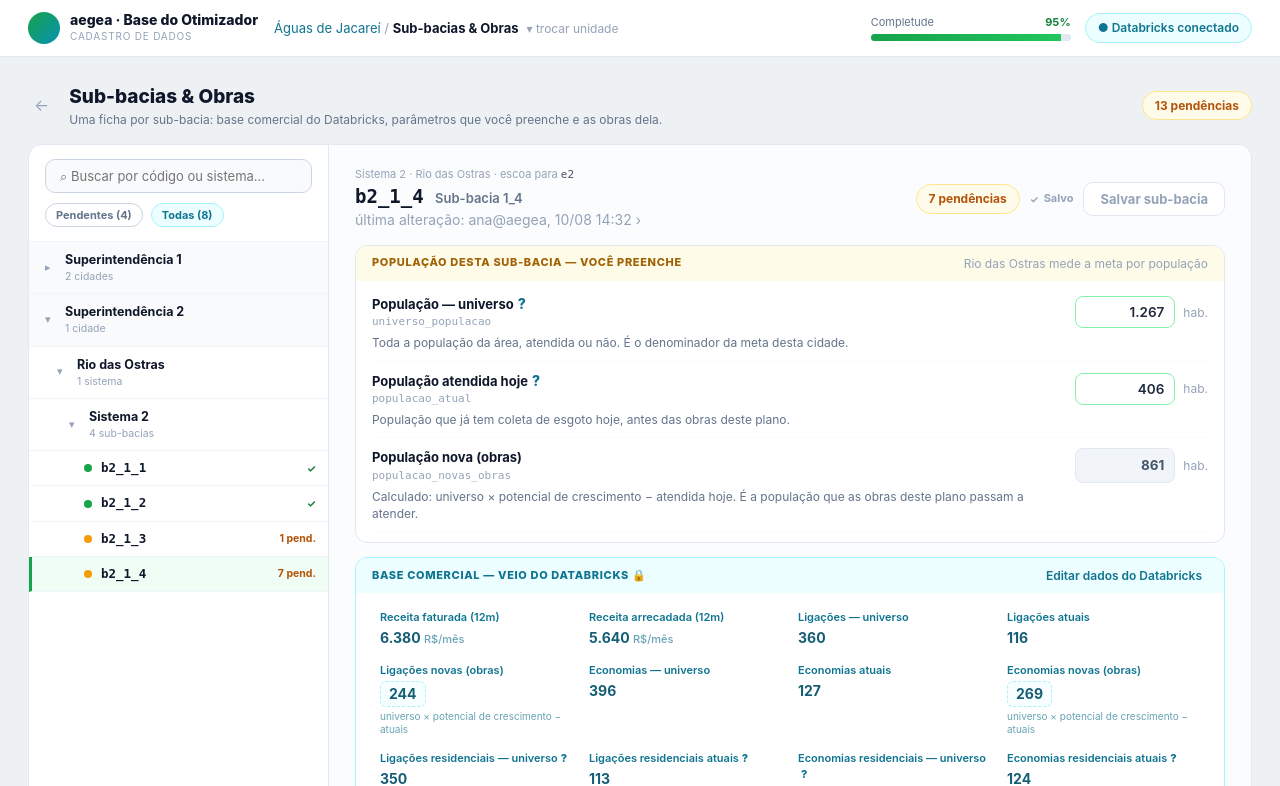
ficha que nunca foi gravada pela tela não inventa histórico › não mostra a linha, e não diz "nunca alterada"
Expected: the button "Salvar sub-bacia" is shown, [1084,182,1225,216]
Expected: the button "última alteração: ana@aegea, 10/08 14:32 ›" is shown, [355,210,641,231]
Click the button "b2_1_2 ✓": (124, 503) [29,486,328,522]
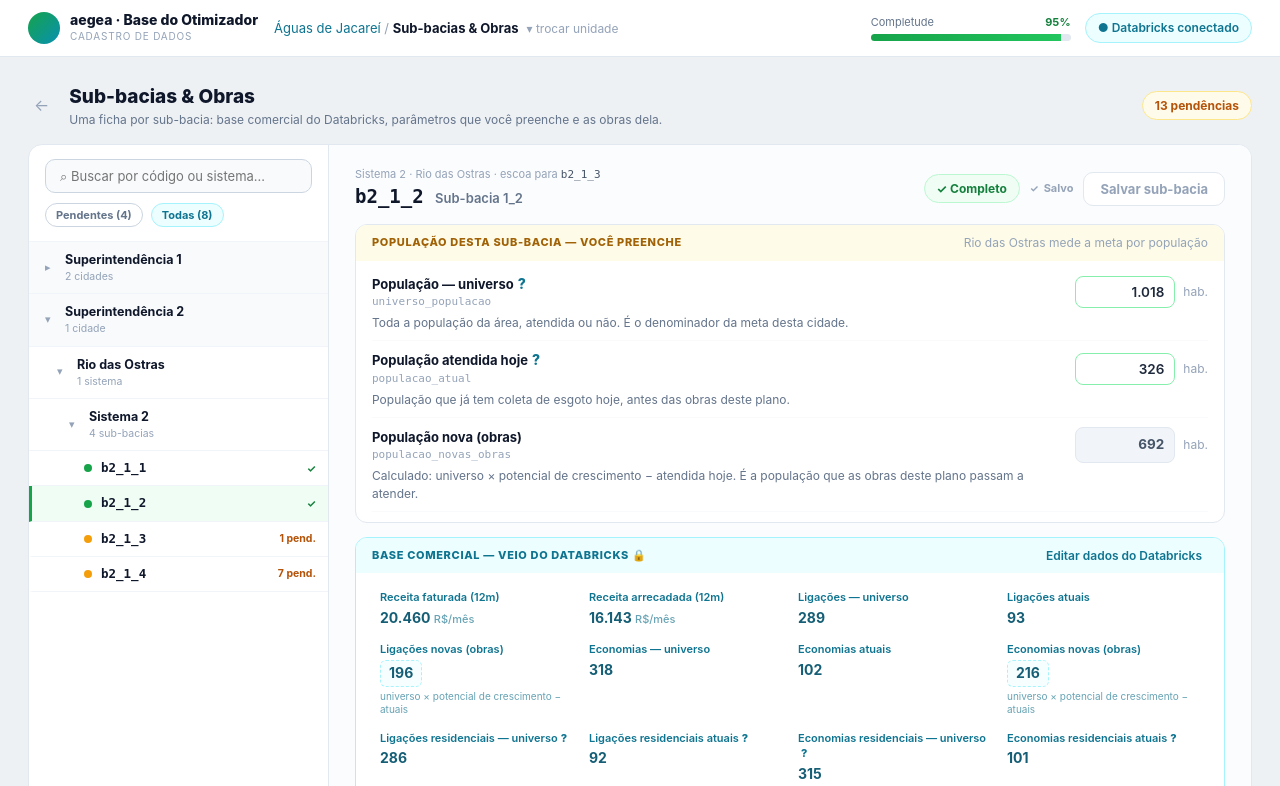
Expected: the button "Salvar sub-bacia" is shown, [1084,172,1225,206]
Expected: the button "última alteração:" is gone
